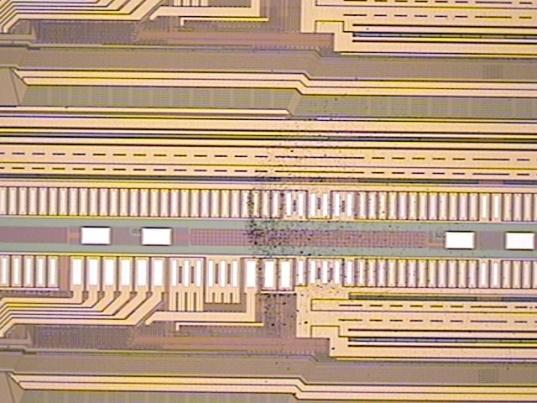PO CONTAMINATION: (243, 65, 467, 371)
